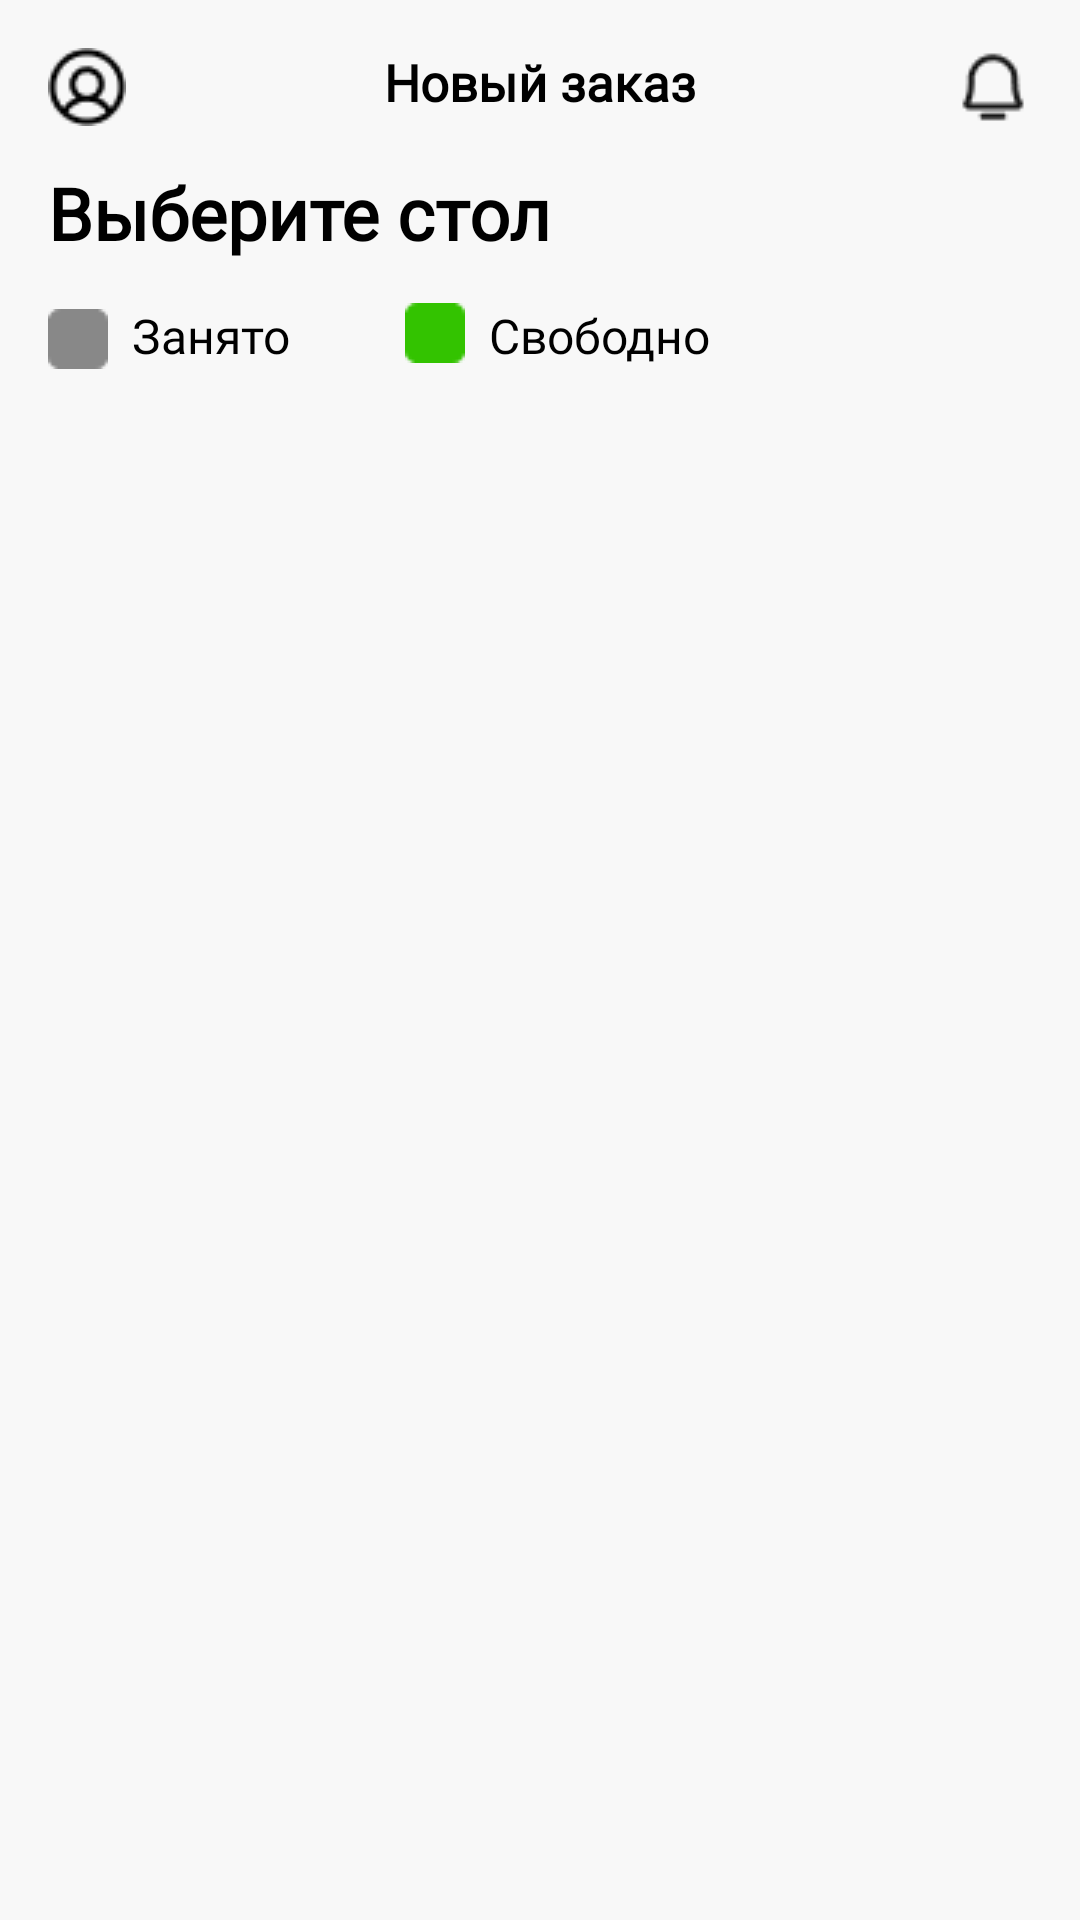

Named icons in this screenshot (1080 × 1920) and their bounding boxes, BBox(x1, y1, x2, y2):
bell: BBox(962, 53, 1024, 121)
user circle: BBox(48, 48, 126, 126)
